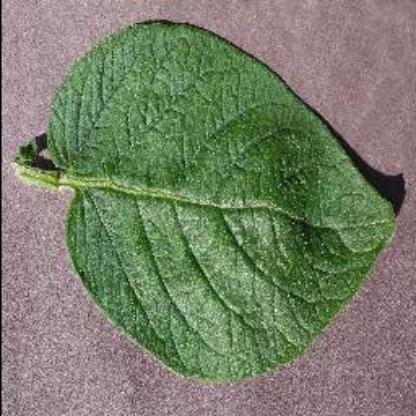Healthy-plant: (30, 15, 402, 391)
